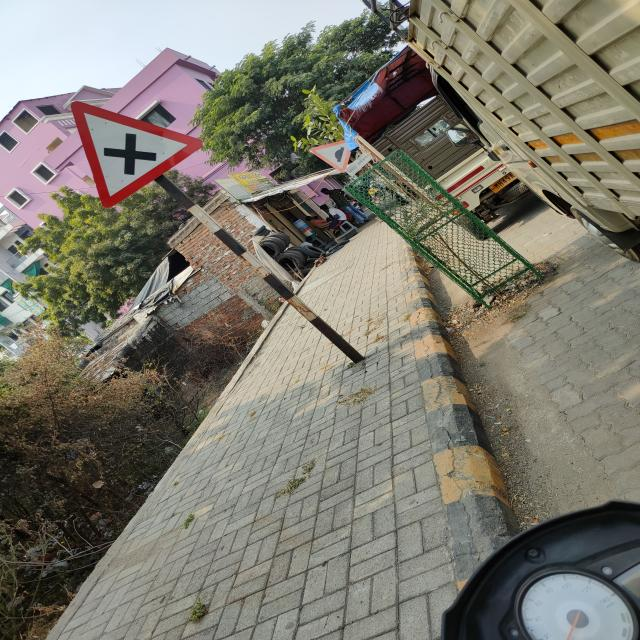CROSS_ROAD: (71, 95, 207, 208)
